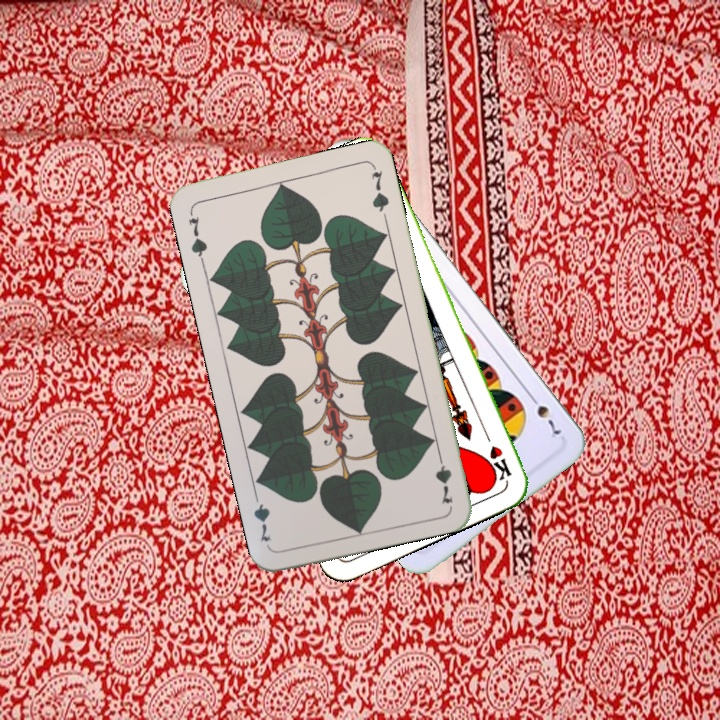G7: (184, 207, 210, 265), (431, 447, 456, 507)
HK: (479, 426, 515, 482)
S7: (524, 389, 563, 441)
